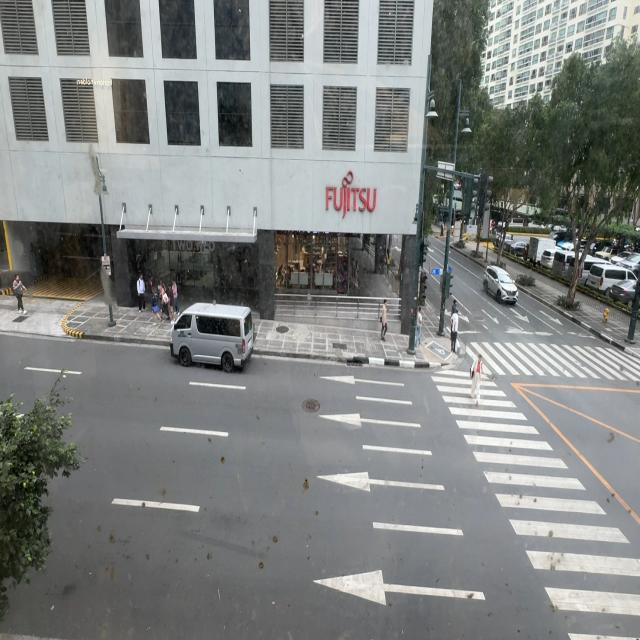crossing: (470, 355, 482, 404)
pedestrain: (12, 274, 26, 314), (160, 286, 171, 324), (136, 273, 146, 313), (380, 300, 388, 342), (171, 279, 179, 314)
waiting: (450, 308, 459, 354), (415, 306, 423, 347)
